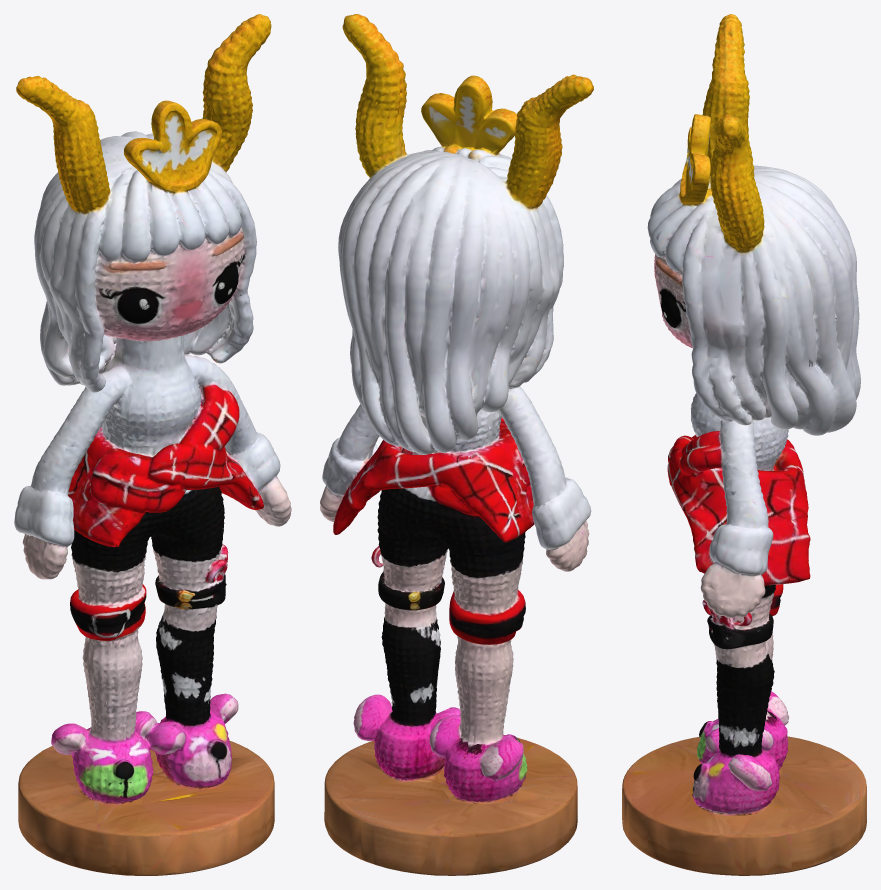
File: muneca.glb
The picture shows the model from 3 angles, left to right: view 1: azimuth 30°, elevation 25°; view 2: azimuth 150°, elevation 25°; view 3: azimuth 270°, elevation 25°; orthographic projection. The views are drawn at different scales.
Parts seen in each view (by area): view 1: muneca_amigurumi; view 2: muneca_amigurumi; view 3: muneca_amigurumi.
Boxes of the visible parts, bbox=[...] form: muneca_amigurumi: bbox=[14, 14, 291, 875]; muneca_amigurumi: bbox=[320, 14, 593, 875]; muneca_amigurumi: bbox=[622, 14, 866, 875].
Bounding box in the file's own units: 0.0887 × 0.25 × 0.0734.
Materials: 1 (1 with a texture image).
